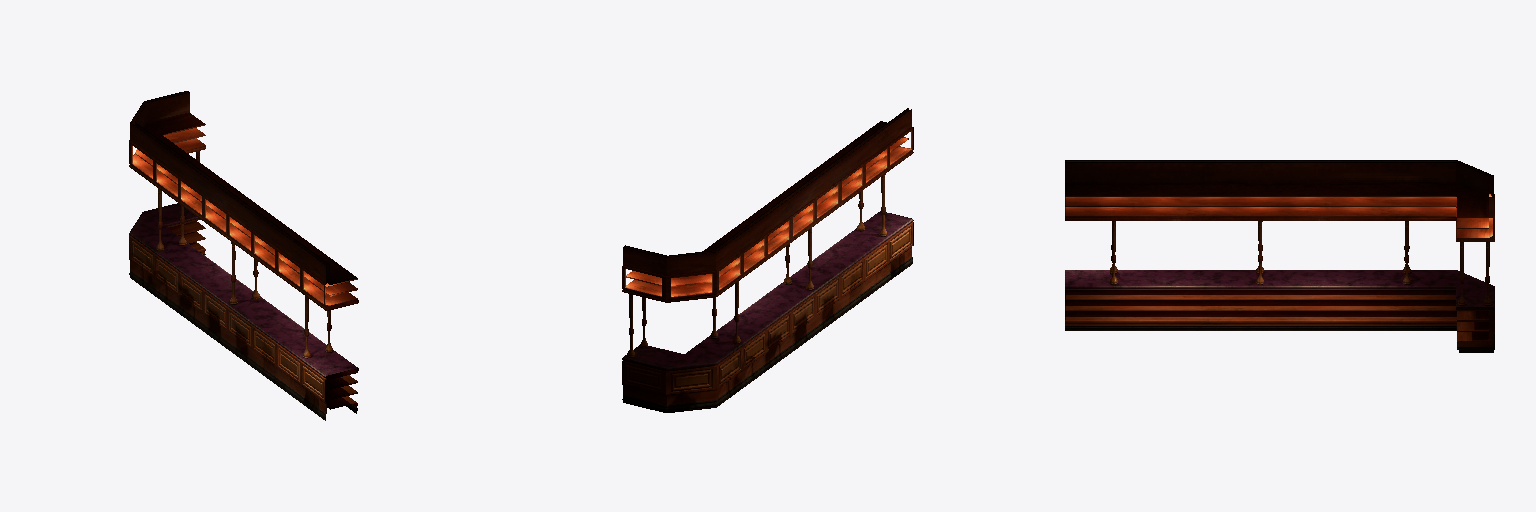
The picture shows the model from 3 angles: view 1: azimuth 30°, elevation 25°; view 2: azimuth 150°, elevation 25°; view 3: azimuth 270°, elevation 25°; orthographic projection.
Visible parts, largest first — view 1: Bar3; view 2: Bar3; view 3: Bar3.
Boxes of the visible parts, x1,y1,x2,y2 form: Bar3: [129, 91, 358, 420]; Bar3: [622, 108, 913, 412]; Bar3: [1065, 160, 1494, 352].
Size of the model in its own units: 1.6 by 3.11 by 7.78.
Materials: 1 (1 with a texture image).